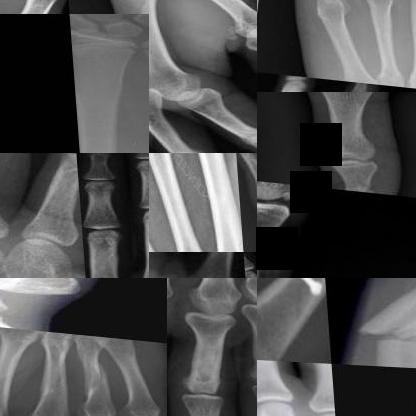fracture: (341, 300, 415, 360), (67, 27, 148, 65), (35, 359, 77, 396), (76, 353, 117, 389), (339, 169, 388, 188), (400, 64, 415, 82)
